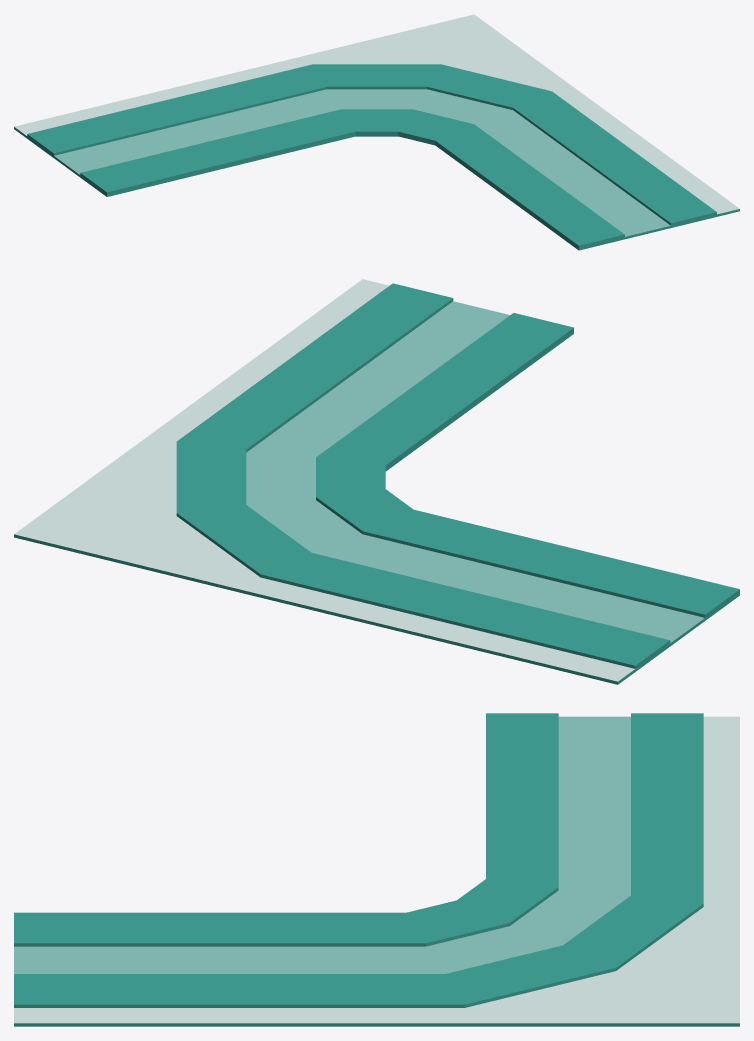
Rendered from Prop_Rug_Corner_Inner.fbx.
The picture shows the model from 3 angles, top to bottom: view 1: azimuth 30°, elevation 25°; view 2: azimuth 150°, elevation 25°; view 3: azimuth 270°, elevation 25°; orthographic projection. The views are drawn at different scales.
Parts seen in each view (by area): view 1: object1; view 2: object1; view 3: object1.
Boxes of the visible parts, <box> form: object1: <box>14,14,739,250</box>; object1: <box>14,279,739,684</box>; object1: <box>14,713,739,1026</box>.
Size of the model in its own units: 1 by 0.01 by 1.
